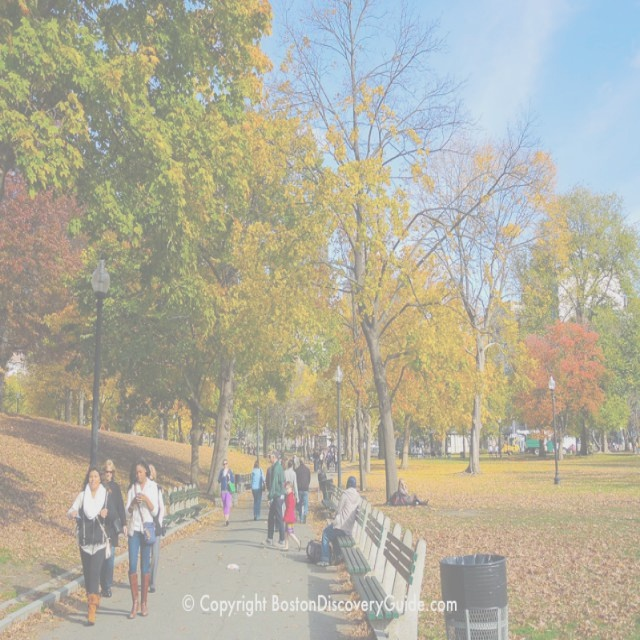pessoa: (65, 458, 119, 624), (122, 456, 162, 618), (313, 473, 362, 571), (98, 456, 129, 599), (260, 446, 288, 549), (148, 463, 167, 594), (279, 478, 303, 554), (216, 456, 236, 528), (266, 452, 284, 532), (292, 455, 312, 526), (249, 460, 267, 522), (398, 477, 430, 508), (282, 458, 300, 504), (410, 444, 434, 458), (318, 442, 338, 452), (317, 448, 324, 476), (311, 446, 318, 472), (324, 450, 332, 472), (290, 452, 300, 469), (98, 420, 112, 432), (242, 438, 252, 453), (332, 450, 338, 472), (487, 442, 494, 460), (340, 444, 346, 462), (437, 442, 443, 459), (493, 443, 499, 458), (444, 442, 449, 460)
